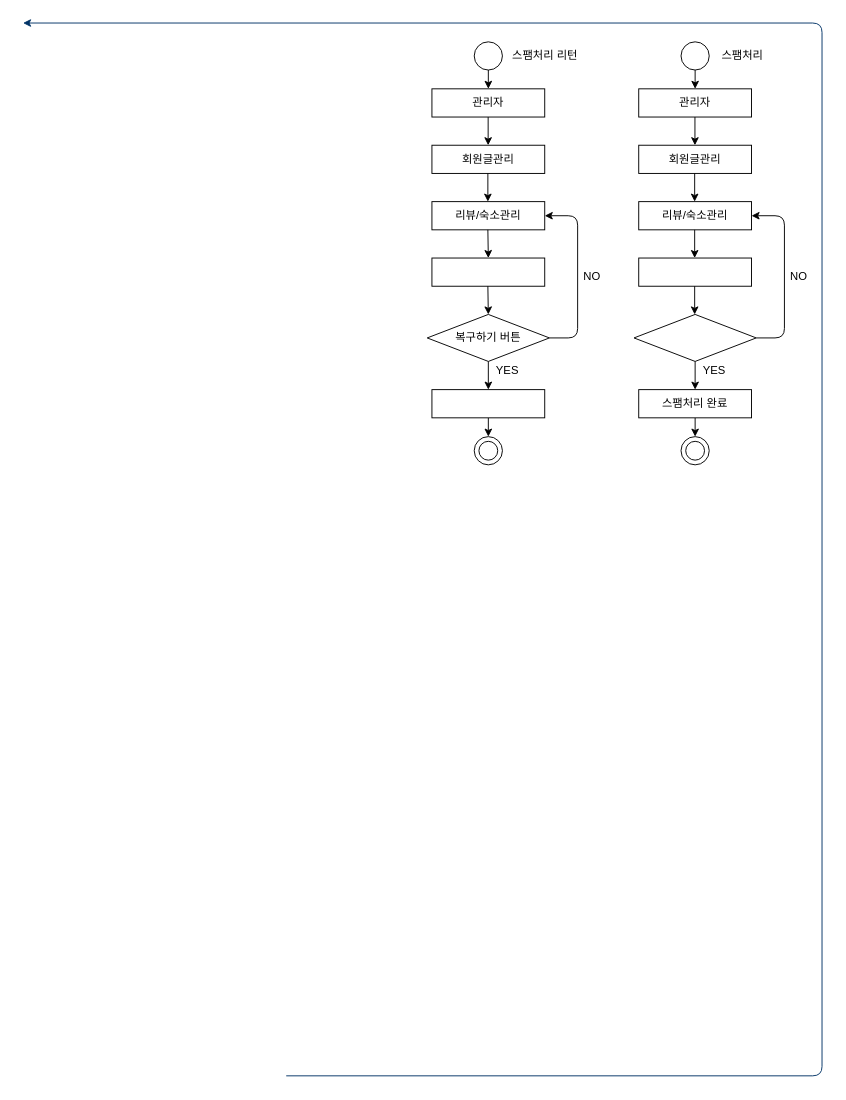
Image size: 846x1100. Some labels were removed from this diagram. The shapes that lost their labels are listed below. From the top down, each one's centre as x and y in pixels, then its label:
At point (488, 271): "스팸글 체크".
At point (695, 271): "해당글 체크".
At point (694, 337): "스팸설정 버튼".
At point (488, 403): "글 복구 완료".
